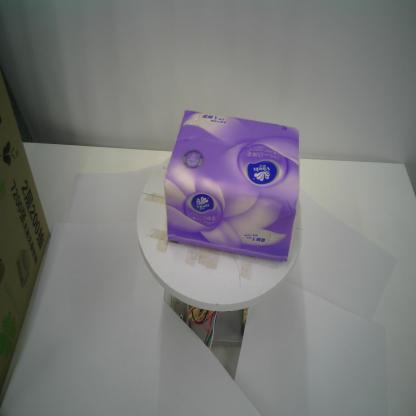Tissue: (162, 107, 300, 264)
